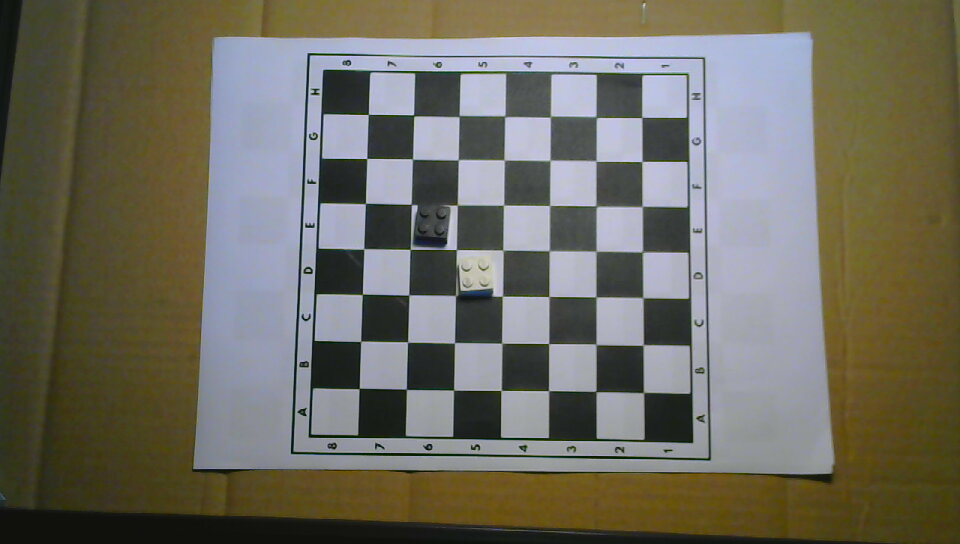bp: (413, 204, 450, 245)
wp: (457, 254, 495, 298)
